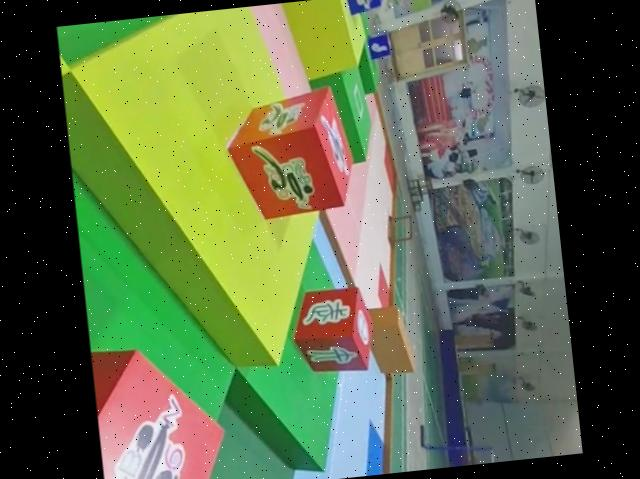R1: (90, 334, 238, 479), (221, 81, 362, 226)
R2 Fake: (288, 281, 380, 379)
